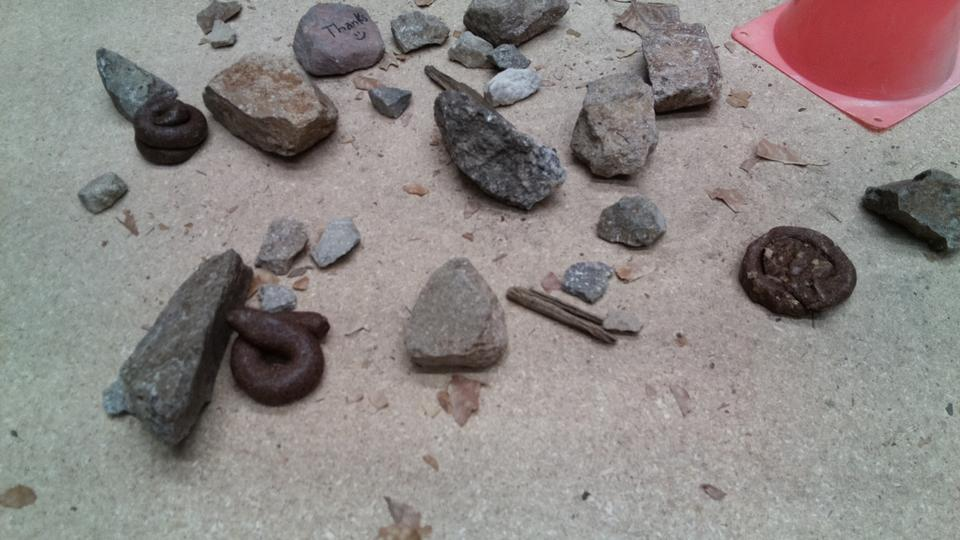poop: (741, 223, 858, 319), (225, 307, 330, 407), (130, 97, 207, 167)
